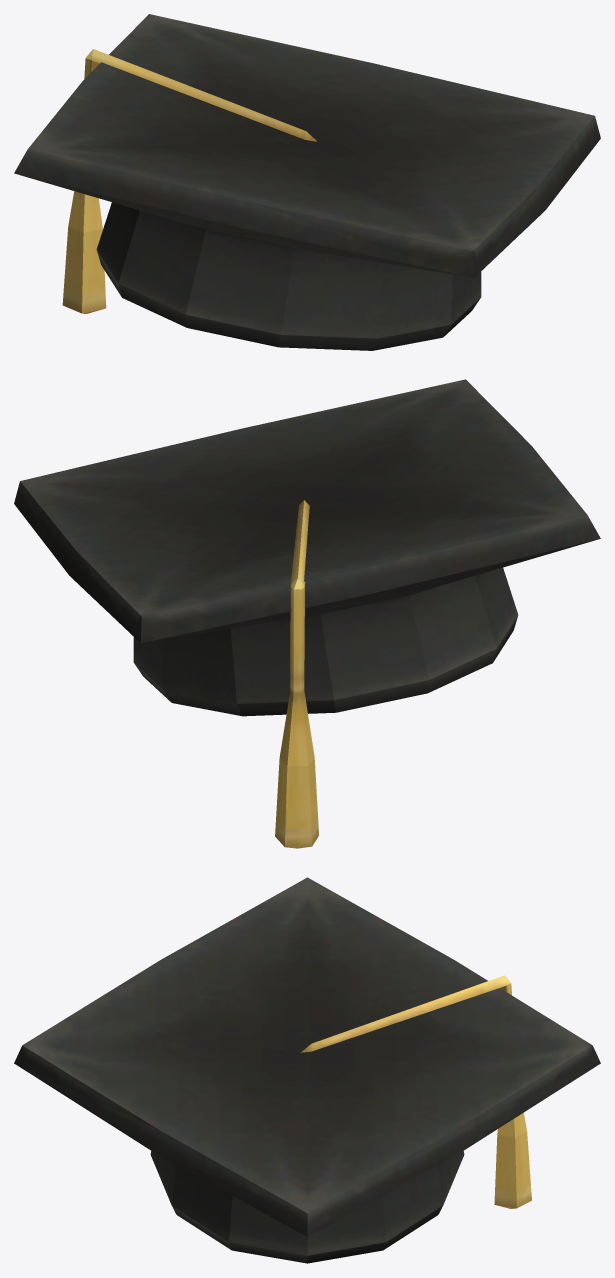
The model's file is Bat_teacherHat.obj.
3 views of the same model, one above another, from view 1: azimuth 30°, elevation 25°; view 2: azimuth 150°, elevation 25°; view 3: azimuth 270°, elevation 25° (orthographic). The views are drawn at different scales.
Parts seen in each view (by area): view 1: Bat_teacherHat_tri; view 2: Bat_teacherHat_tri; view 3: Bat_teacherHat_tri.
Part boxes in pixels (left/top/right/bottom): Bat_teacherHat_tri: left=14, top=14, right=600, bottom=350; Bat_teacherHat_tri: left=14, top=379, right=600, bottom=848; Bat_teacherHat_tri: left=14, top=877, right=600, bottom=1263.
Size of the model in its own units: 0.4239 by 0.2013 by 0.4171.
1 material, 1 textured.
